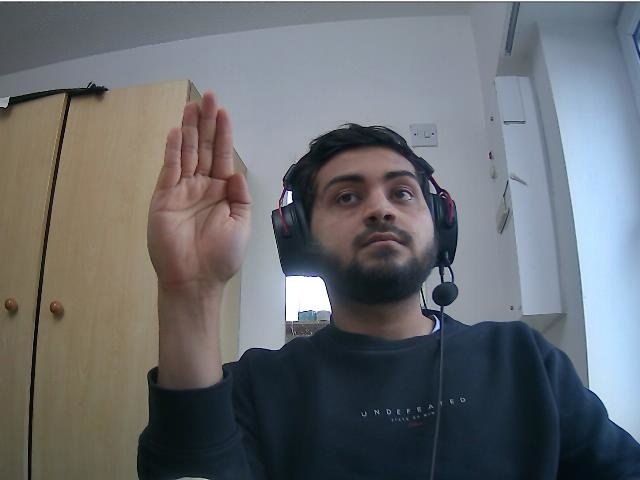up: (145, 90, 253, 289)
